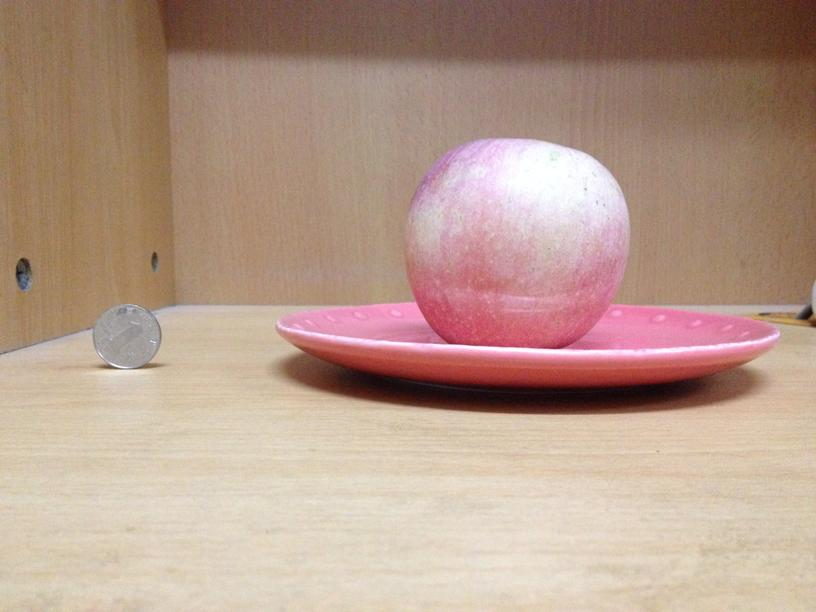apple: (399, 141, 631, 346)
coin: (92, 306, 161, 367)
